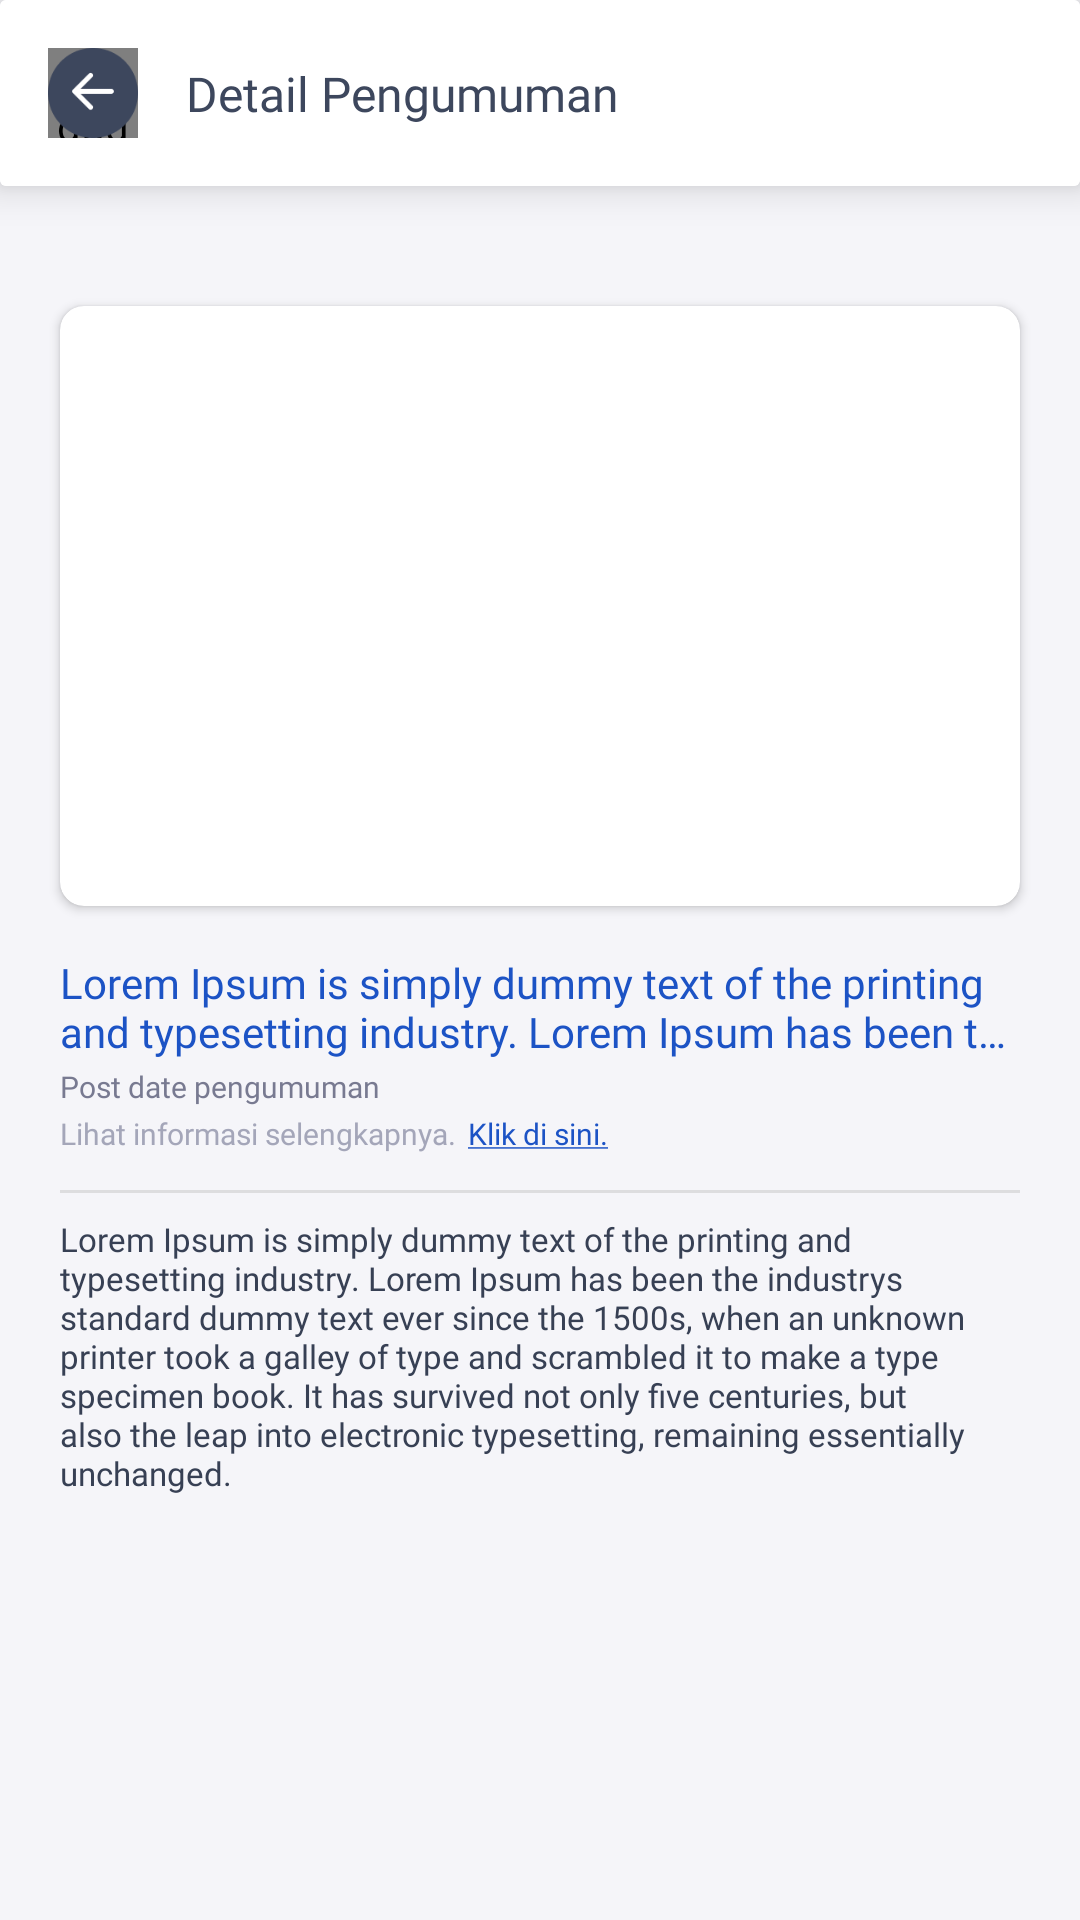

Screen size 1080px×1920px. Icon name, then its center in pixels as [x,y]:
back arrow: [93,93]
